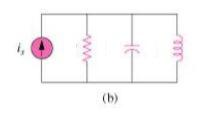resistor: (75, 28, 97, 64)
